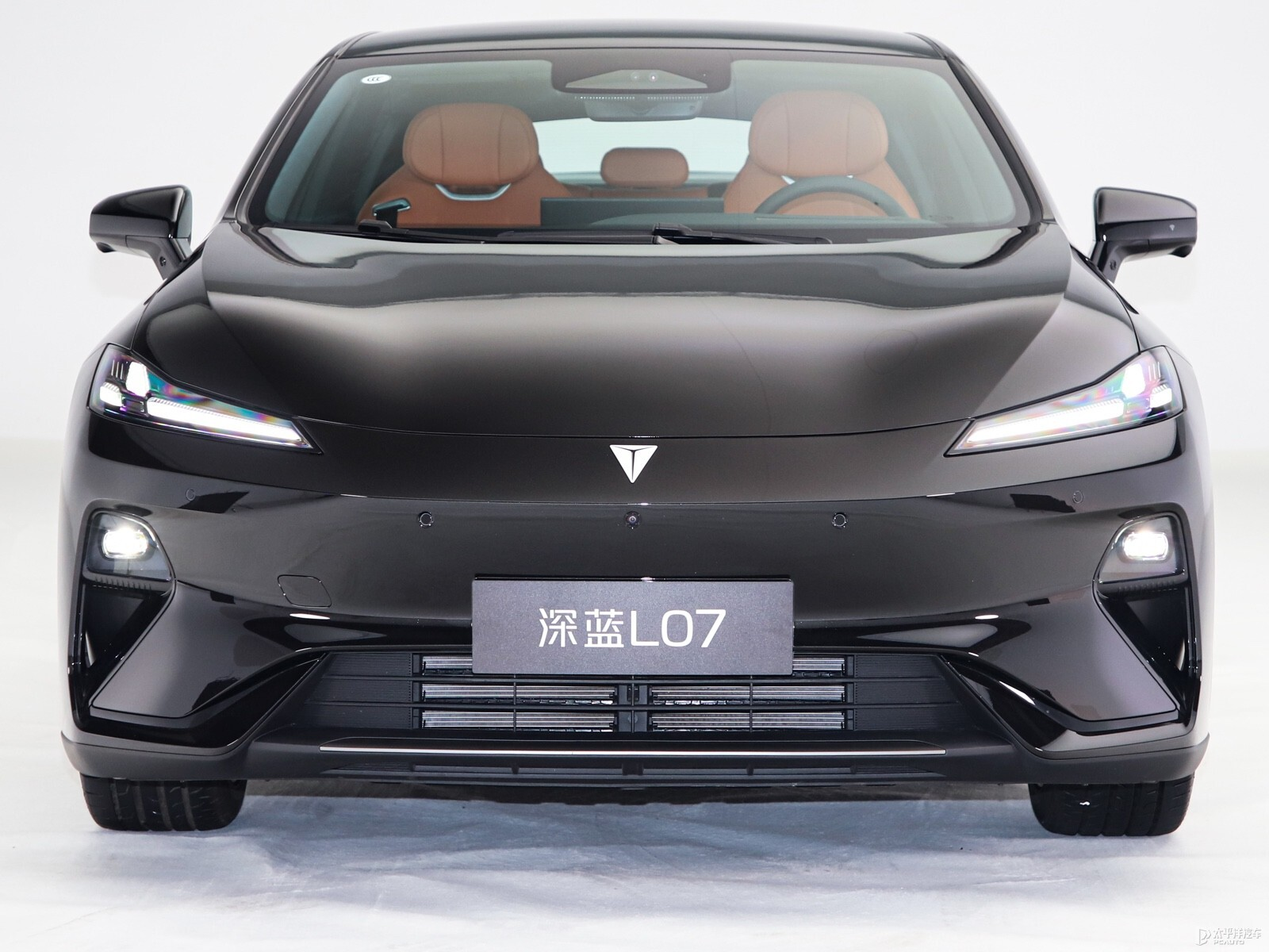Deepal: (610, 445, 658, 482)
